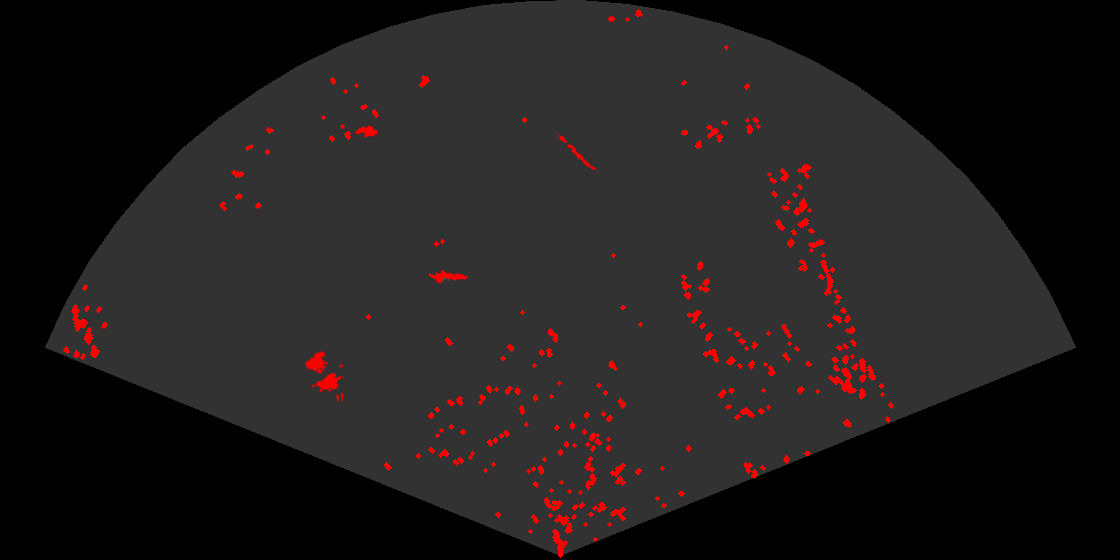AUV: (353, 124, 380, 139)
cage: (303, 349, 343, 401)
chain: (553, 132, 598, 174)
frogman: (429, 269, 469, 285)
